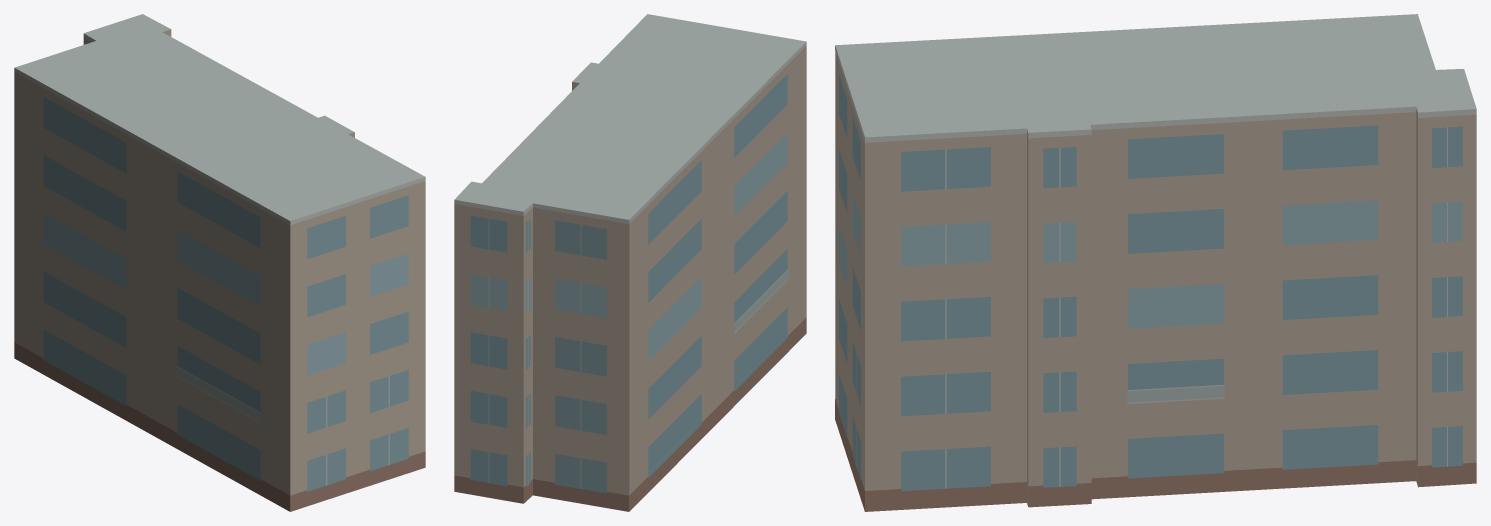
Rendered from survey-upis-32763472.glb.
3 views of the same model, side by side, from view 1: azimuth 30°, elevation 25°; view 2: azimuth 150°, elevation 25°; view 3: azimuth 270°, elevation 25° (orthographic). The views are drawn at different scales.
Visible parts, largest first — view 1: survey-upis-32763472.tmp; view 2: survey-upis-32763472.tmp; view 3: survey-upis-32763472.tmp.
Part boxes in pixels (x1,y1,x2,y2): survey-upis-32763472.tmp: [14, 14, 425, 511]; survey-upis-32763472.tmp: [454, 14, 806, 511]; survey-upis-32763472.tmp: [835, 14, 1476, 511].
Bounding box in the file's own units: 11.89 × 16.8 × 26.1.
